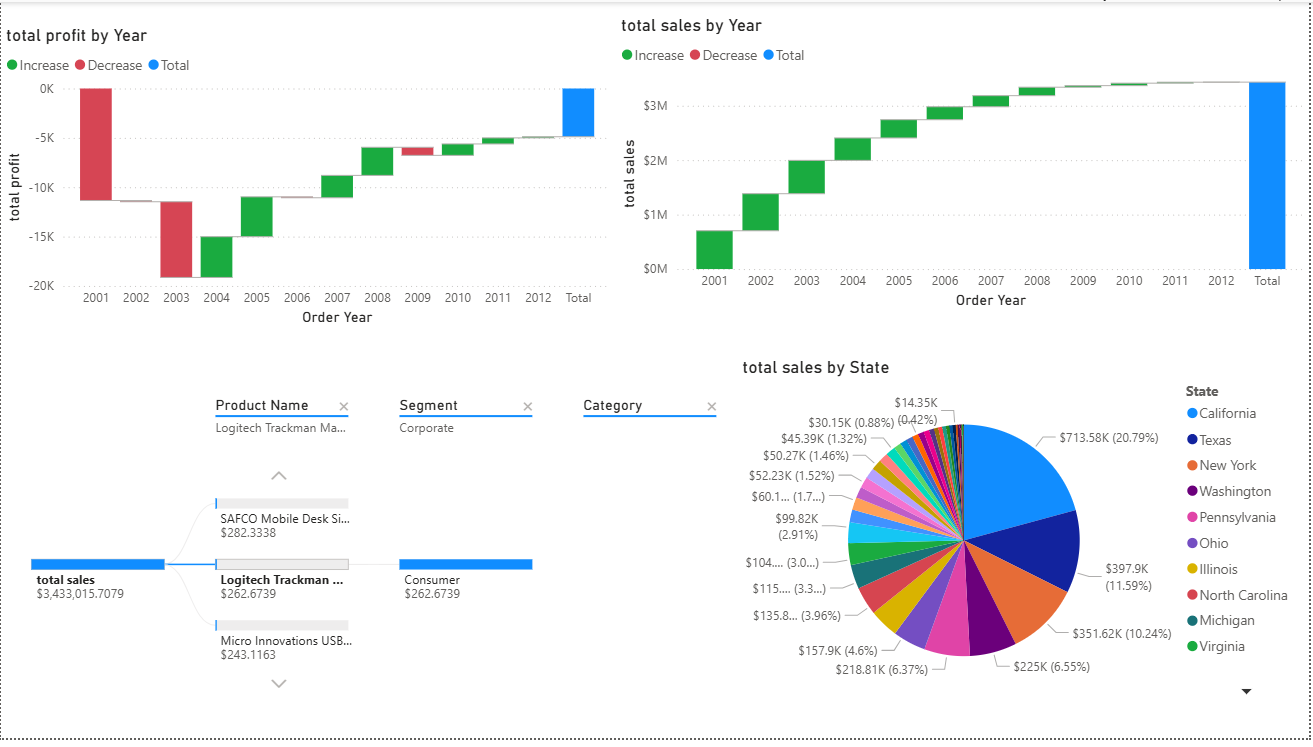

The dashboard page shown, as its layout file describes it:
{"tool":"powerbi","page":{"name":"Page 1","canvas":[1280,720],"ordinal":0},"visuals":[{"type":"waterfallChart","fields":{"Y":["sales data.total profit"],"Category":["order.Order.Variation.Date Hierarchy.Year"]},"box":[0,21.6,601.7,299.5],"z":0},{"type":"waterfallChart","fields":{"Category":["order.Order Date.Variation.Date Hierarchy.Year"],"Y":["sales data.total sales"]},"box":[601.7,12.1,678.6,292.7],"z":1},{"type":"decompositionTreeVisual","fields":{"Analyze":["sales data.total sales"],"ExplainBy":["product.Product Name","customer.Segment","product.Category"]},"box":[0,369.6,720.4,340],"z":5},{"type":"pieChart","fields":{"Category":["customer.State"],"Y":["sales data.total sales"]},"box":[720.4,346.7,559.9,340],"z":6}]}

Visuals, with their boxes in screenshot pixels (x1, y1, x2, y2), scaled from the page's 1280x720 canvas onto the 1313x747 screenshot:
waterfallChart - sales data.total profit x order.Order.Variation.Date Hierarchy.Year: [0,22,617,333]
waterfallChart - order.Order Date.Variation.Date Hierarchy.Year x sales data.total sales: [617,13,1312,316]
decompositionTreeVisual - sales data.total sales x product.Product Name: [0,383,739,736]
pieChart - customer.State x sales data.total sales: [739,360,1312,712]
